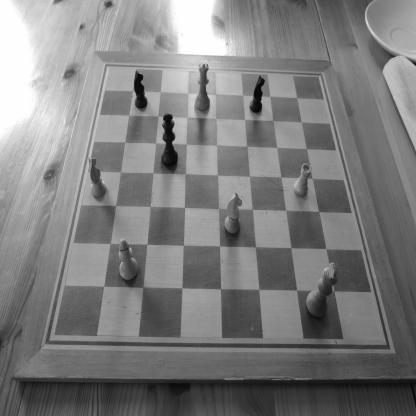black-king: (160, 112, 178, 167)
black-knight: (249, 75, 265, 113), (134, 70, 148, 109)
white-bishop: (118, 238, 139, 282)
white-king: (305, 262, 338, 319)
white-knight: (88, 156, 107, 198), (224, 191, 242, 234)
white-queen: (194, 62, 210, 112)
white-rook: (294, 162, 312, 197)
